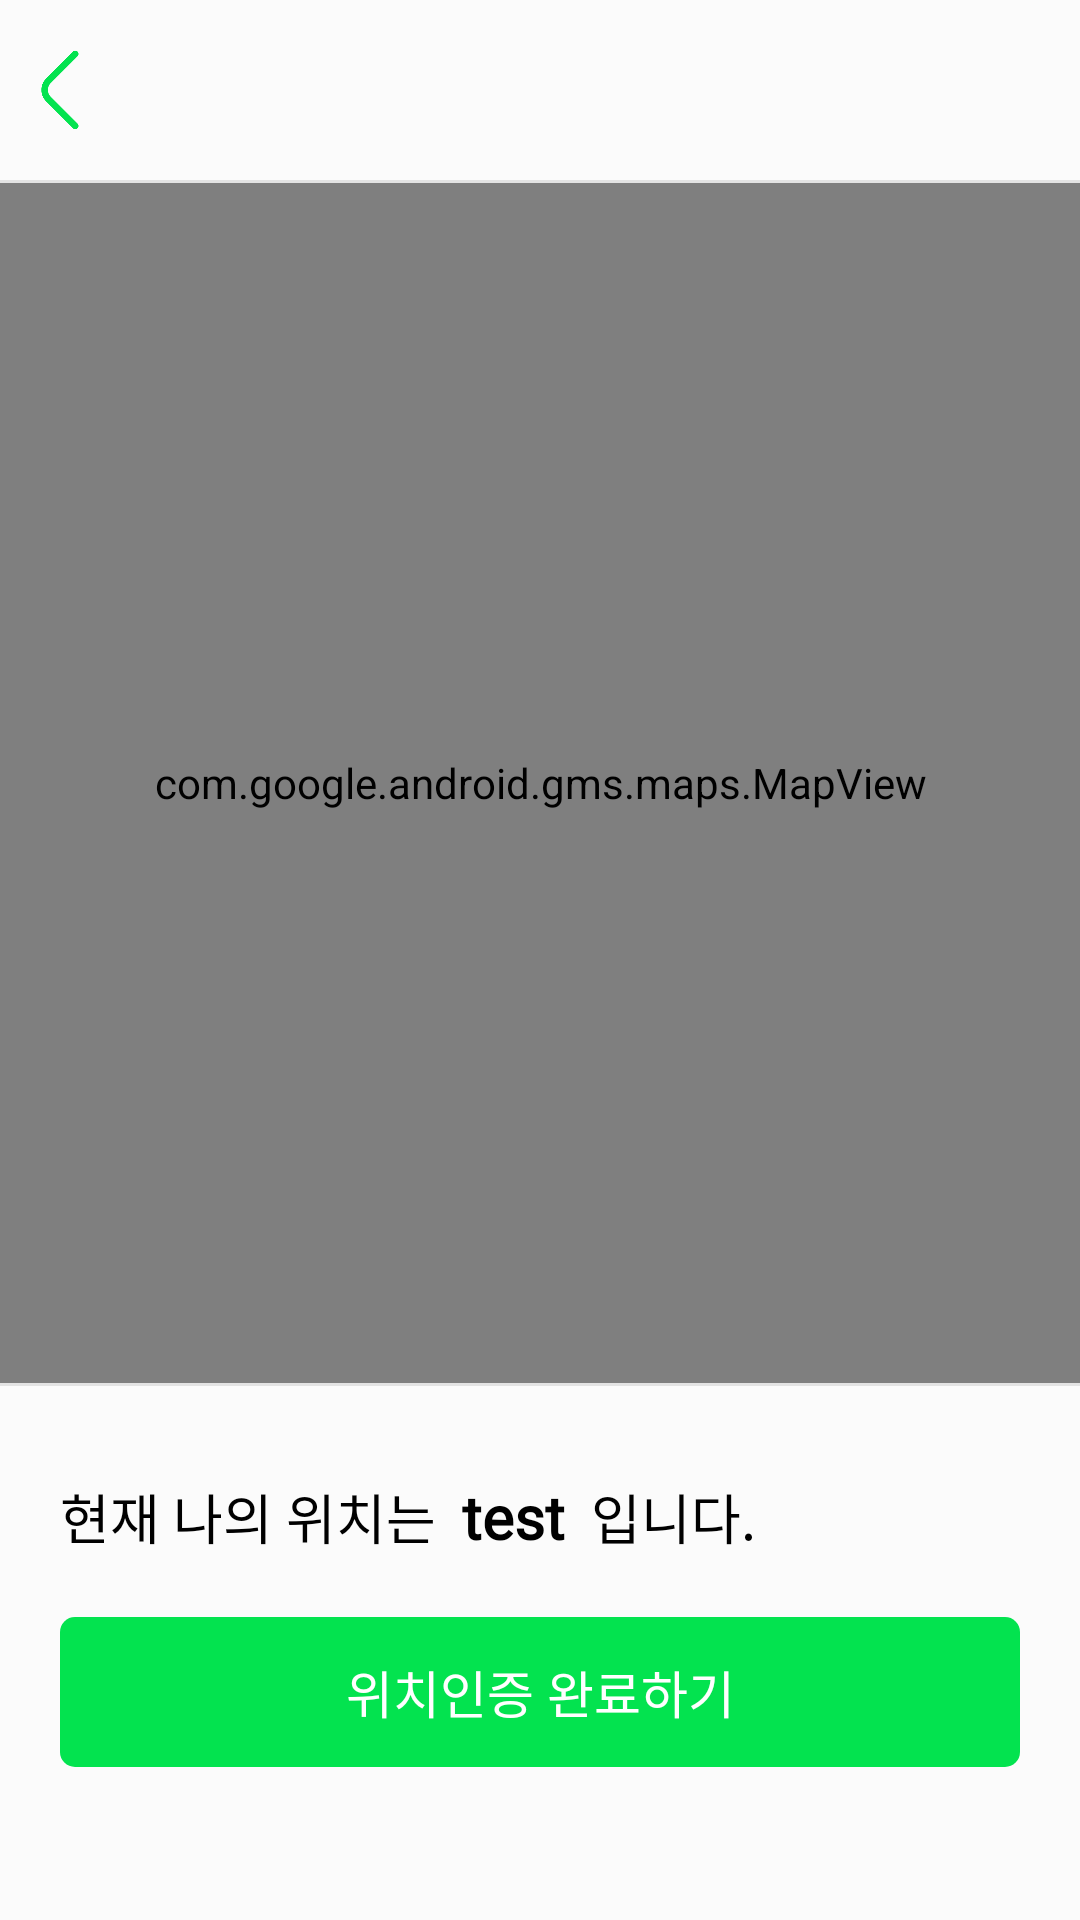

Screen size 1080 x 1920. Icon name, then its center in pixels as (x=x, y=y):
backbtn: (x=60, y=90)
